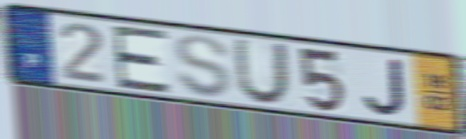2: (57, 21, 106, 86)
5: (296, 44, 348, 114)
E: (109, 24, 172, 96)
J: (362, 56, 409, 118)
S: (173, 32, 234, 100)
U: (232, 37, 291, 107)
